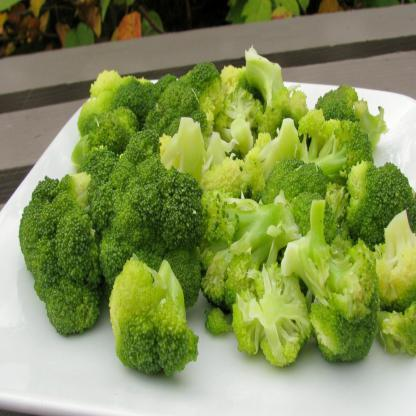broccoli: (17, 43, 416, 376)
